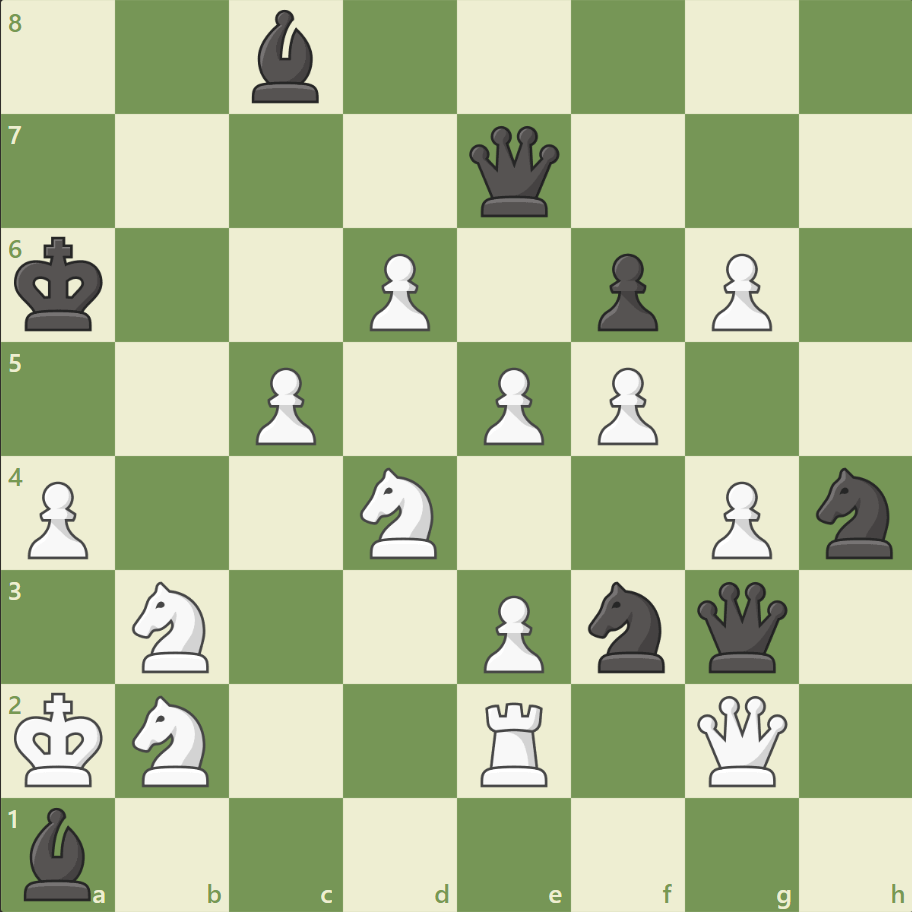K: (11, 685, 111, 793)
N: (351, 461, 449, 564), (124, 688, 222, 791), (124, 575, 222, 677)
P: (701, 246, 776, 337), (247, 359, 322, 450), (474, 359, 549, 450), (20, 473, 95, 564), (701, 473, 776, 564), (474, 586, 549, 677), (361, 246, 435, 337), (588, 359, 662, 450)
Q: (691, 690, 790, 789)
R: (473, 693, 556, 790)
b: (244, 6, 328, 109), (17, 801, 101, 904)
k: (11, 231, 111, 339)
n: (806, 461, 903, 564), (579, 575, 676, 677)
p: (588, 246, 662, 337)
q: (464, 122, 563, 222), (691, 576, 790, 676)
